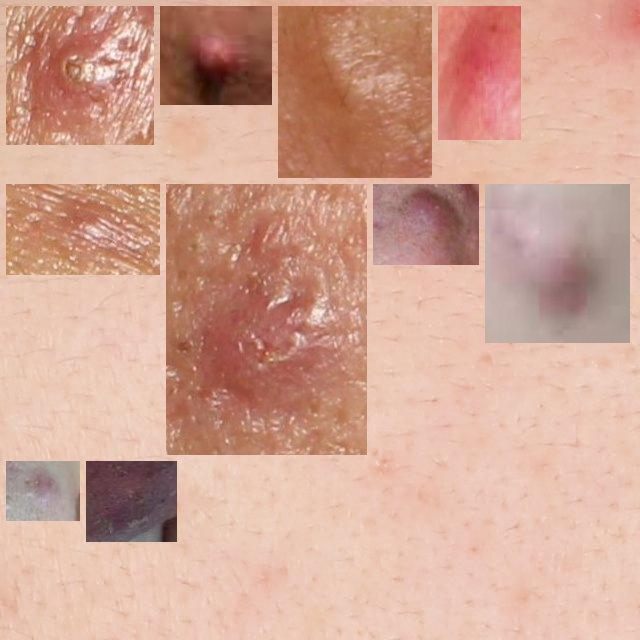nodule: (174, 192, 359, 447), (286, 14, 424, 170), (493, 192, 622, 335), (14, 14, 146, 137), (14, 188, 152, 267), (168, 14, 264, 97), (446, 14, 513, 132), (381, 192, 471, 257), (94, 469, 169, 534), (14, 469, 72, 513)
